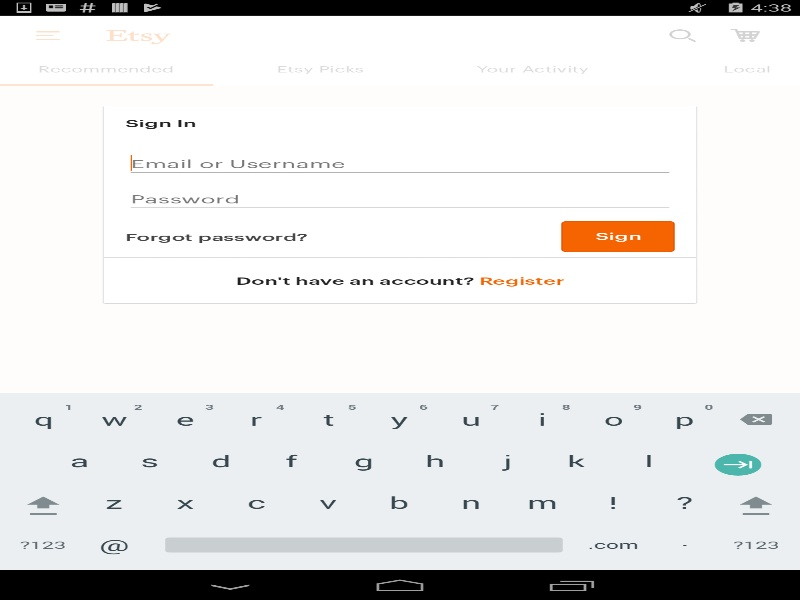Button: (561, 220, 674, 252)
Input: (125, 150, 674, 175), (125, 185, 674, 210)
